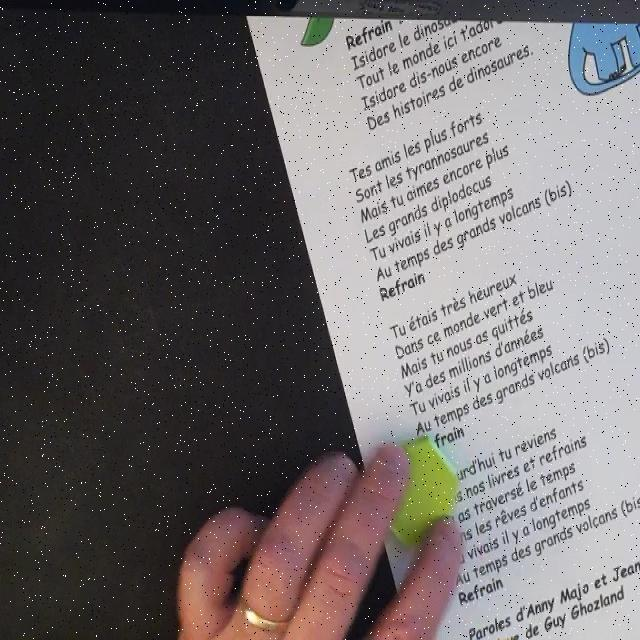hexagon: (370, 431, 465, 547)
